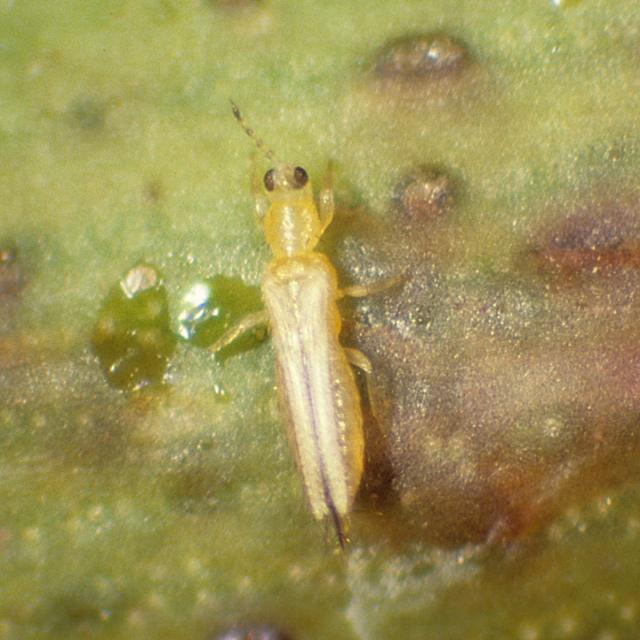Thrip-Adult-: (194, 102, 399, 540)
